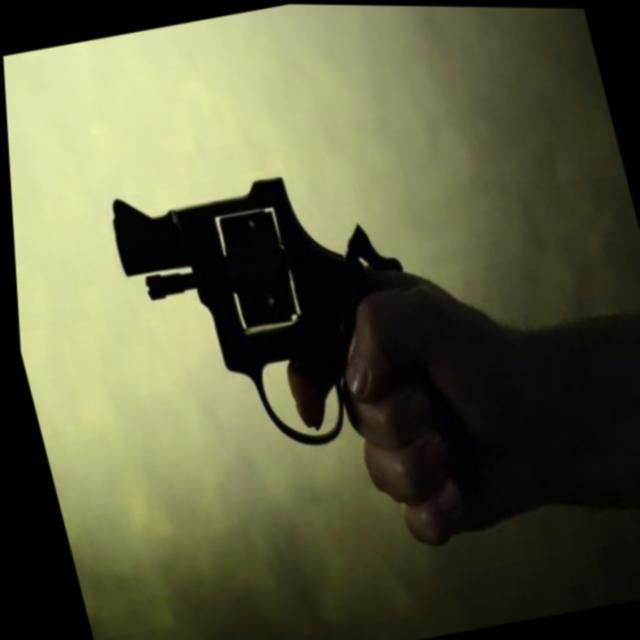weapon: (96, 142, 444, 481)
